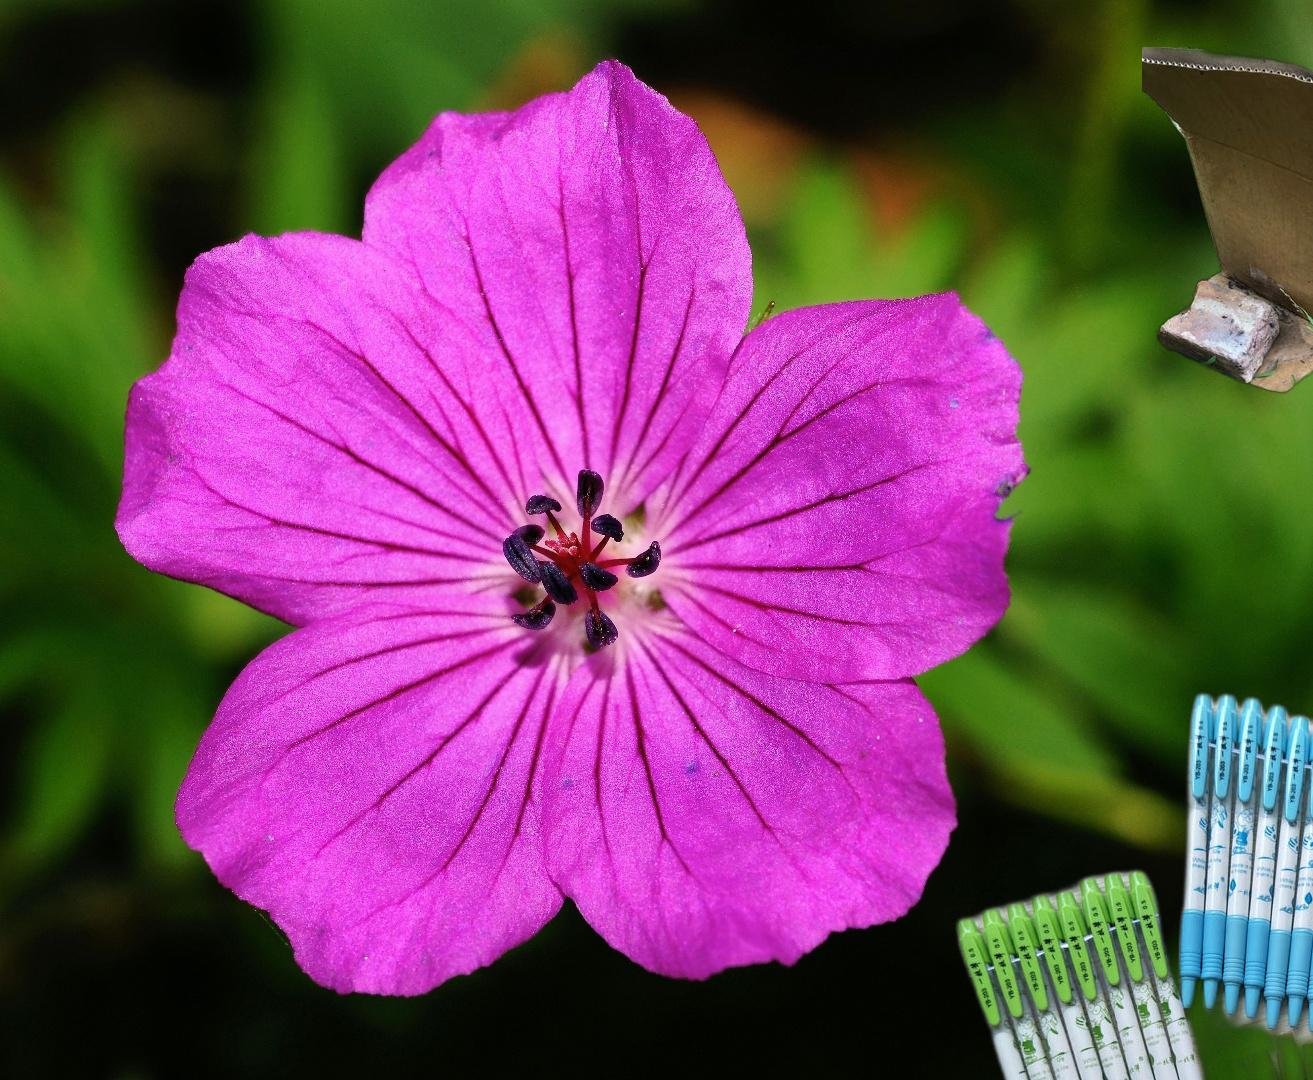penholder: (949, 686, 1313, 1080)
trashbox-cardboard: (1142, 47, 1313, 473), (728, 1024, 1313, 1080)
